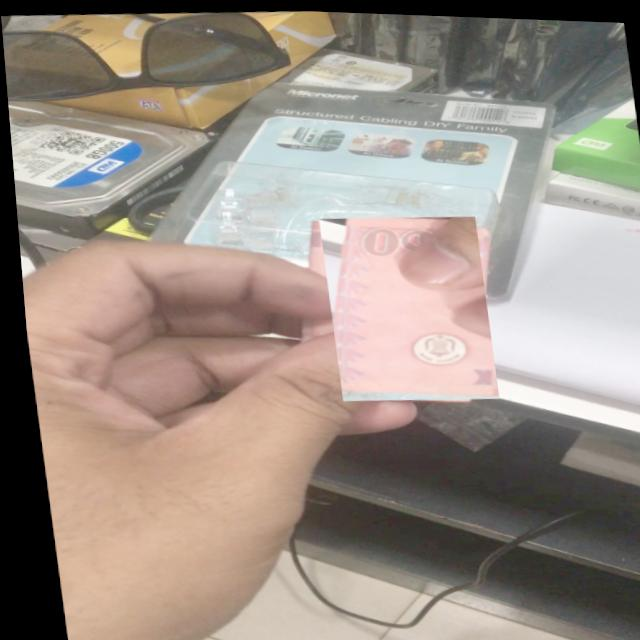Taka: (315, 208, 493, 403)
